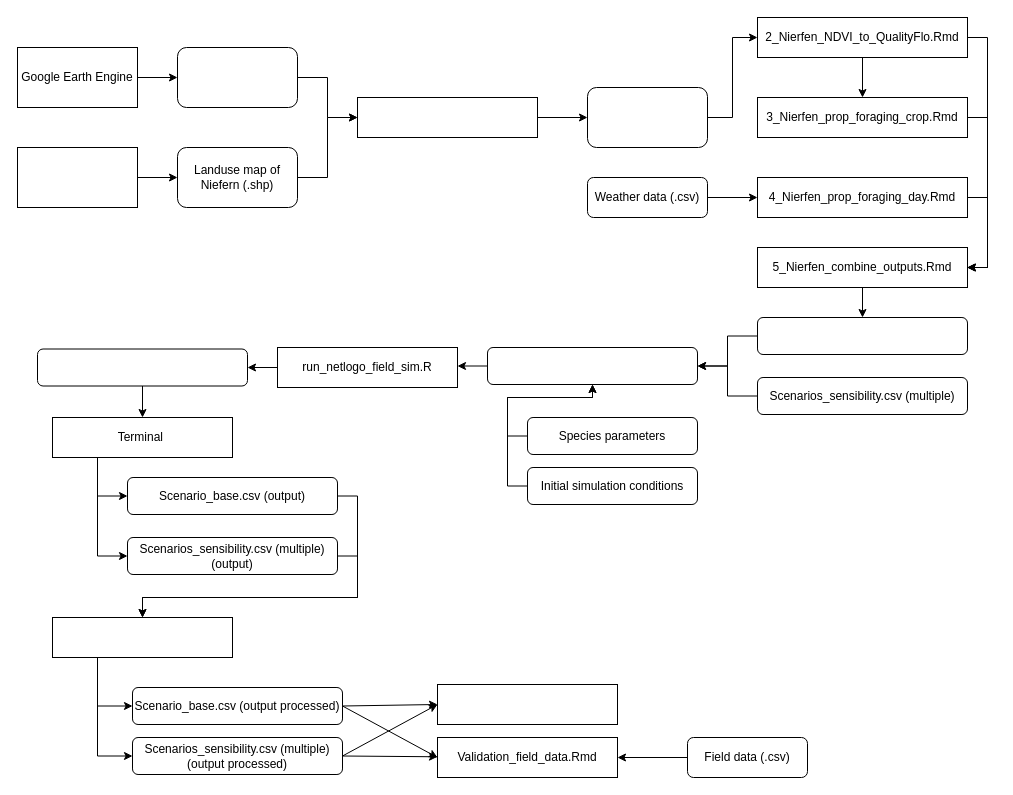
The diagram is 1013 pixels wide and 795 high, and some of its shapes have lost their labels. The box of each missing label's shape, as (x1, y1, x2, y2) in pixels:
1_Nierfen_raster_to_NDVI.Rmd: (356, 96, 538, 138)
Mean daily NDVI per land use (.csv): (586, 86, 708, 148)
NDVI rasters for Niefern for the year 2015 (.tiff): (176, 46, 298, 108)
QGIS: (16, 146, 138, 208)
run_scenarios_base.csv: (486, 346, 698, 384)
run_scenarios_base.sh: (36, 348, 248, 386)
Scenario_base.csv: (756, 316, 968, 354)
Sensitivity_analysis.Rmd: (436, 684, 618, 724)
Treat_results.R: (52, 616, 232, 658)
